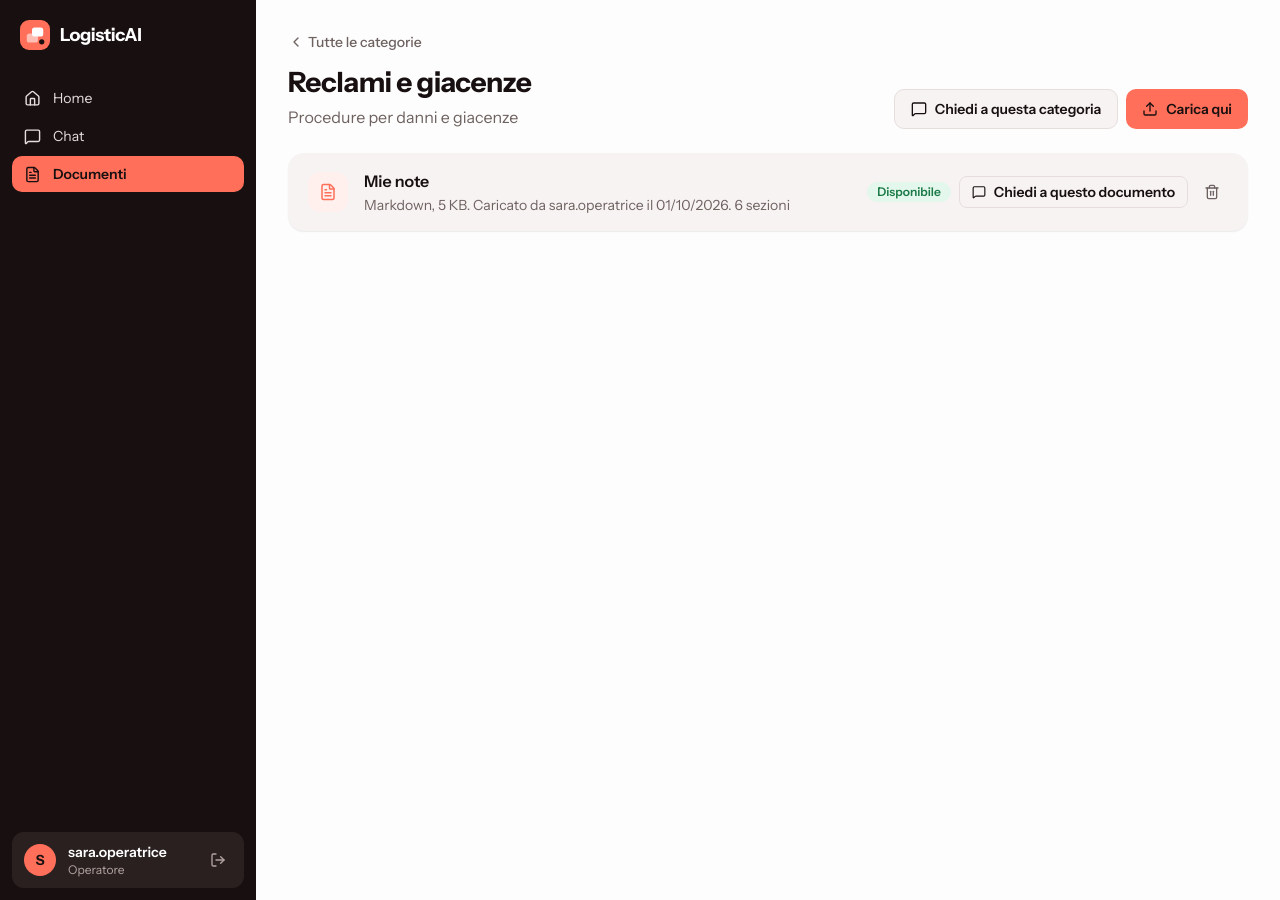
Test: documenti › l'autore può eliminare il proprio documento dopo la conferma
Step 1. Click the button named "Elimina \"Mie note\"" → (1212, 192), box [1196,176,1228,208]
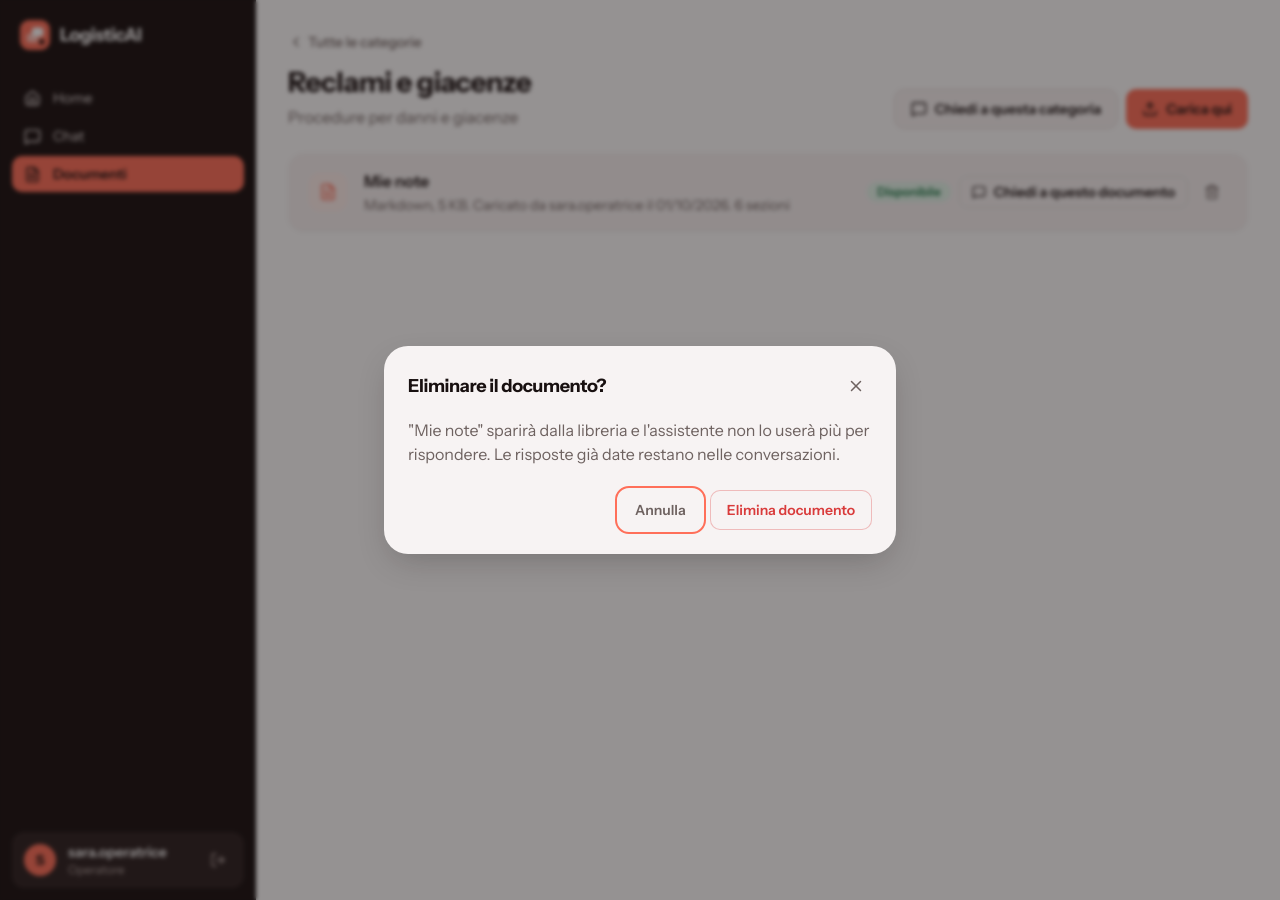
Step 2. Click the button "Elimina documento" → (791, 510), box [710,490,872,530]
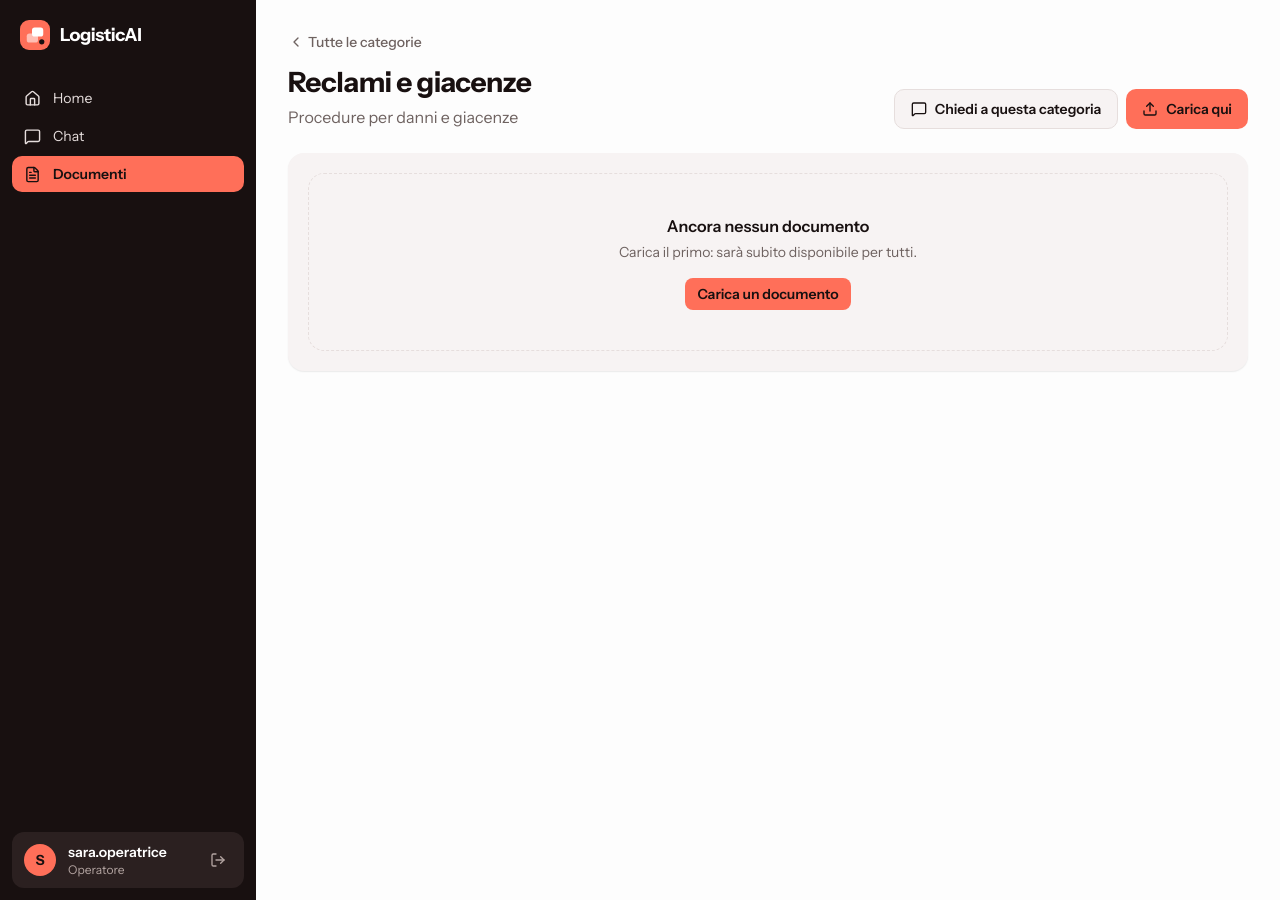
Result: the text "Ancora nessun documento" is shown at [667,214,869,238]
